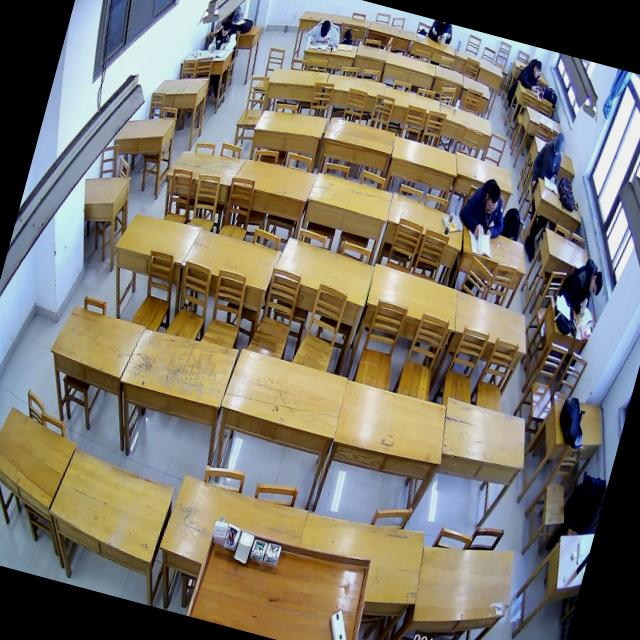bow: (304, 15, 342, 50), (516, 55, 546, 93)
down: (482, 182, 502, 215), (587, 268, 605, 297), (550, 132, 566, 156), (318, 16, 332, 38), (219, 16, 233, 37), (530, 58, 544, 78)
sit: (456, 173, 514, 244), (556, 253, 608, 319), (530, 127, 568, 184), (205, 15, 242, 60)
